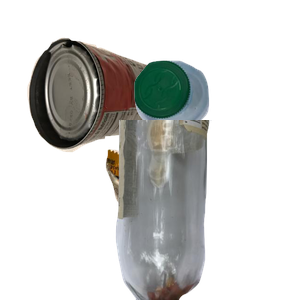glass: (113, 120, 300, 300)
metal: (25, 35, 189, 180)
plastic: (132, 58, 300, 182)
trash: (103, 147, 300, 300)
